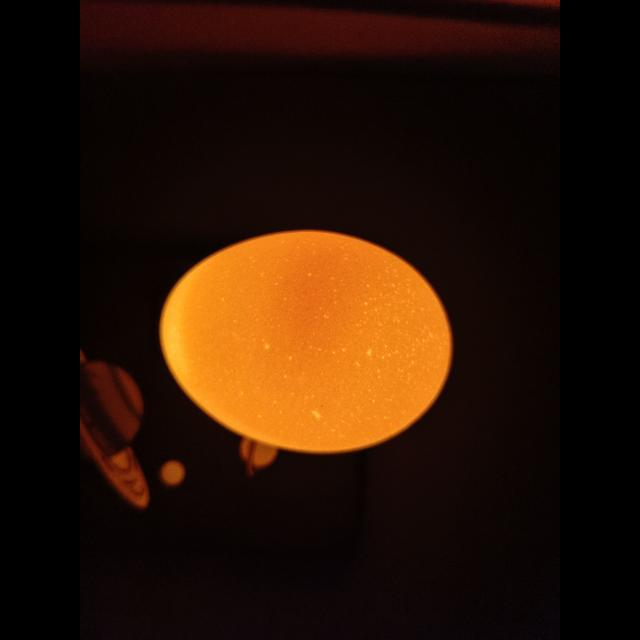AA - Premium: (160, 230, 453, 454)
